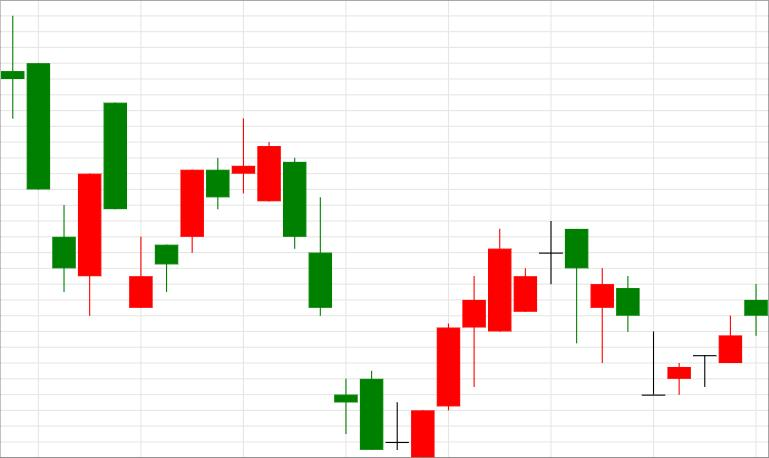hanging_man_fall: (412, 222, 588, 458)
